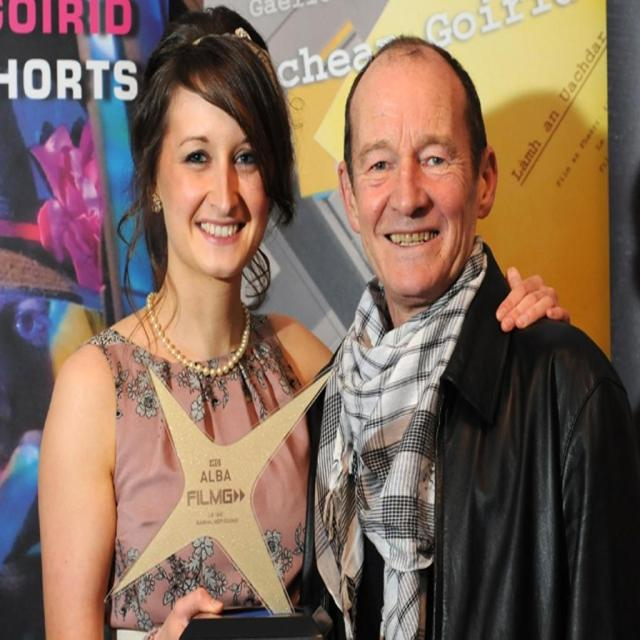Face: (351, 64, 483, 298), (166, 89, 271, 286)
